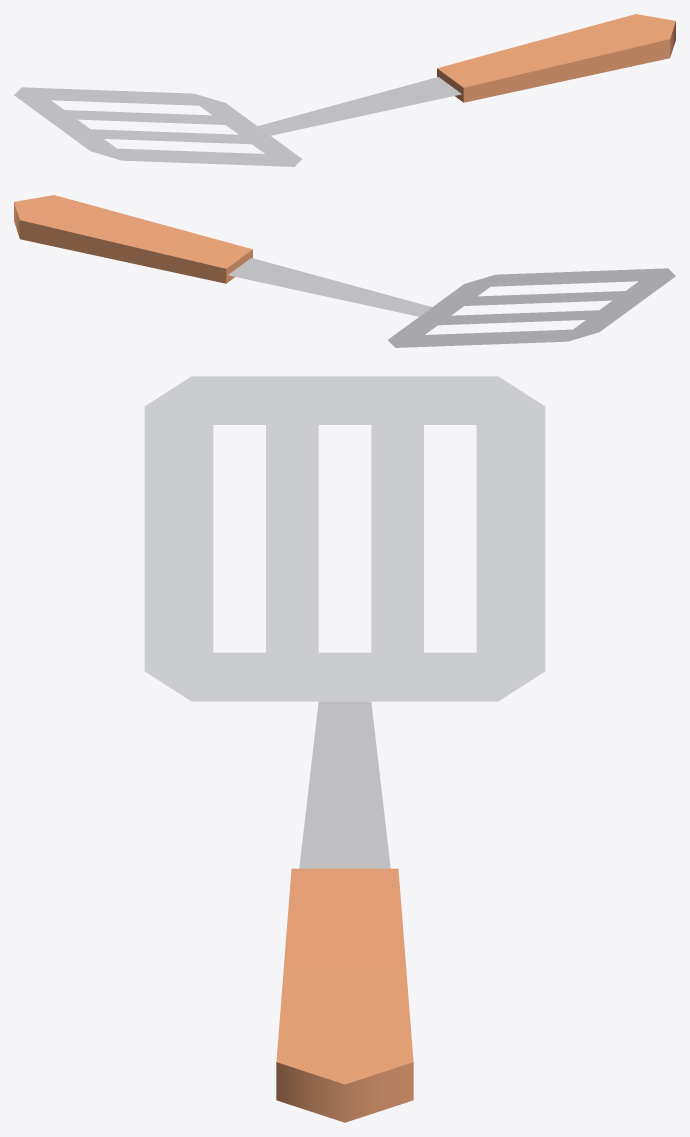
Rendered from cookingSpatula.obj.
3 views of the same model, one above another, from view 1: azimuth 30°, elevation 25°; view 2: azimuth 150°, elevation 25°; view 3: azimuth 270°, elevation 25° (orthographic). The views are drawn at different scales.
Visible parts, largest first — view 1: cookingSpatula; view 2: cookingSpatula; view 3: cookingSpatula.
Boxes of the visible parts, box(x1,y1,x2,y2) form: cookingSpatula: box(14, 14, 675, 166); cookingSpatula: box(14, 195, 675, 347); cookingSpatula: box(144, 376, 545, 1122).
Size of the model in its own units: 0.6827 by 0.0721 by 0.19.
